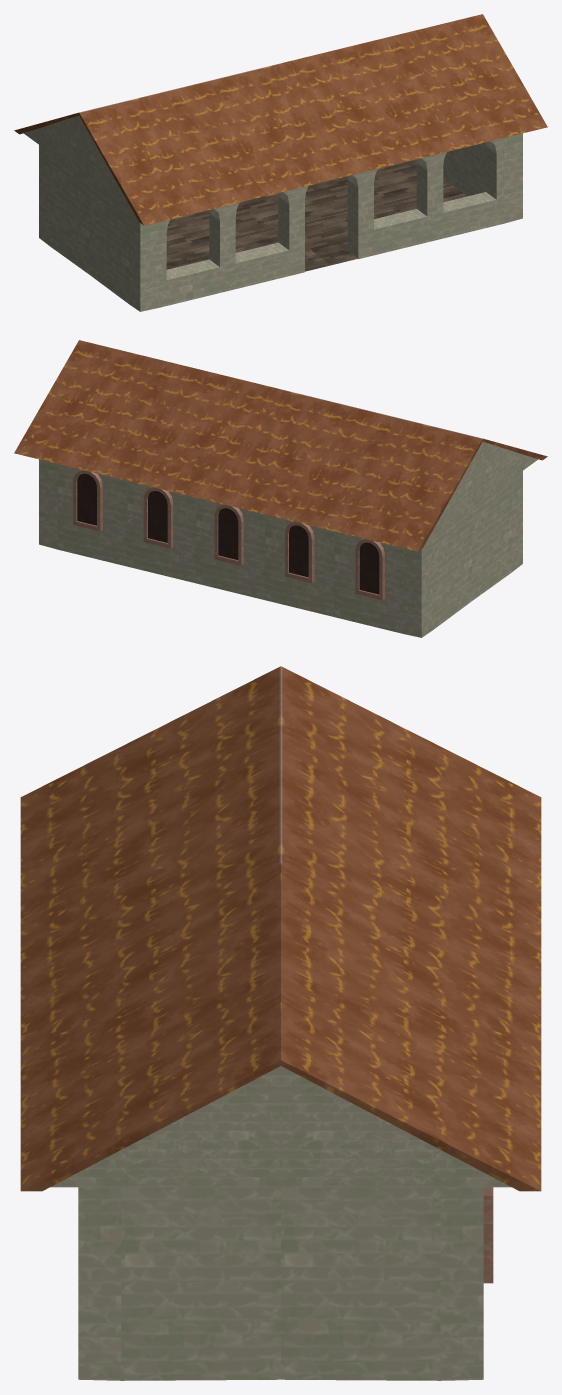
File: SM_Building_002_Windows.fbx
3 renders of one model, top to bottom at view 1: azimuth 30°, elevation 25°; view 2: azimuth 150°, elevation 25°; view 3: azimuth 270°, elevation 25°, orthographic. The views are drawn at different scales.
Parts seen in each view (by area): view 1: polySurface715; view 2: polySurface715; view 3: polySurface715.
Part boxes in pixels (x1,y1,x2,y2): polySurface715: (14,14,547,311); polySurface715: (14,340,547,637); polySurface715: (20,666,541,1380).
Bounding box in the file's own units: 710 × 278 × 396.
